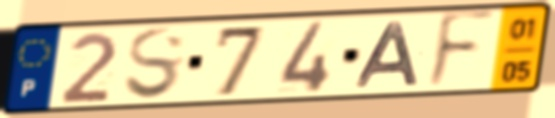2: (59, 28, 122, 106)
4: (277, 19, 335, 95)
7: (212, 25, 266, 99)
A: (353, 19, 423, 90)
F: (423, 7, 498, 95)
S: (121, 25, 189, 103)
